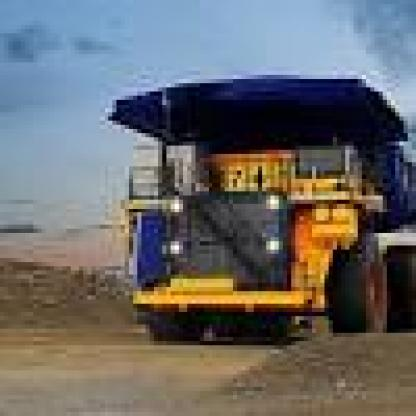dump_truck: (79, 58, 412, 362)
